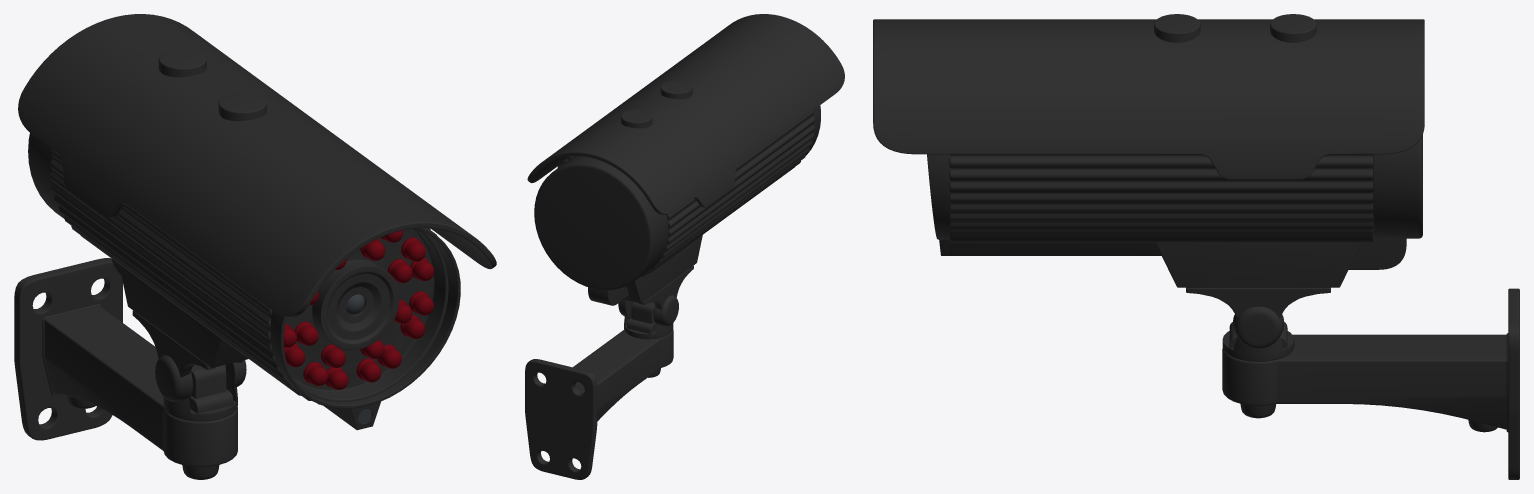
Rendered from camera.obj.
3 views of the same model, side by side, from view 1: azimuth 30°, elevation 25°; view 2: azimuth 150°, elevation 25°; view 3: azimuth 270°, elevation 25° (orthographic). The views are drawn at different scales.
Visible parts, largest first — view 1: archmodels95_044_001, archmodels95_044_003; view 2: archmodels95_044_001; view 3: archmodels95_044_001.
Boxes of the visible parts, x1,y1,x2,y2 form: archmodels95_044_001: (14, 14, 496, 479); archmodels95_044_003: (283, 230, 434, 389); archmodels95_044_001: (525, 14, 844, 479); archmodels95_044_001: (873, 14, 1519, 479).
Size of the model in its own units: 85.11 by 168 by 223.
4 materials, 4 textured.
